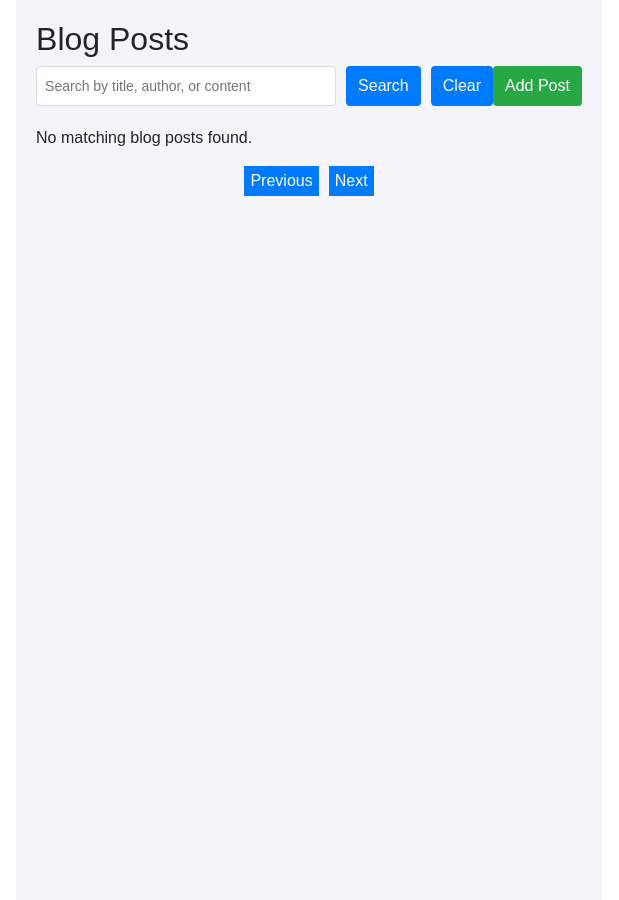
Test case: Blogs Component › navigates to AddPost when 'Add Post' is clicked
Click the button "Add Post" at (537, 86), box 493,66 -> 582,106
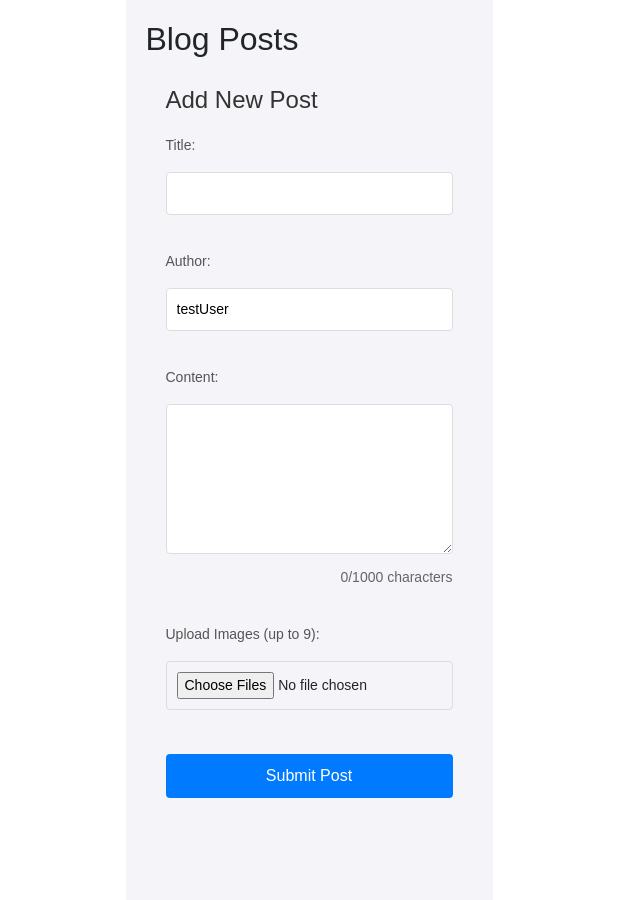
Expected: the heading "Add New Post" is shown, 166,86 -> 318,113
